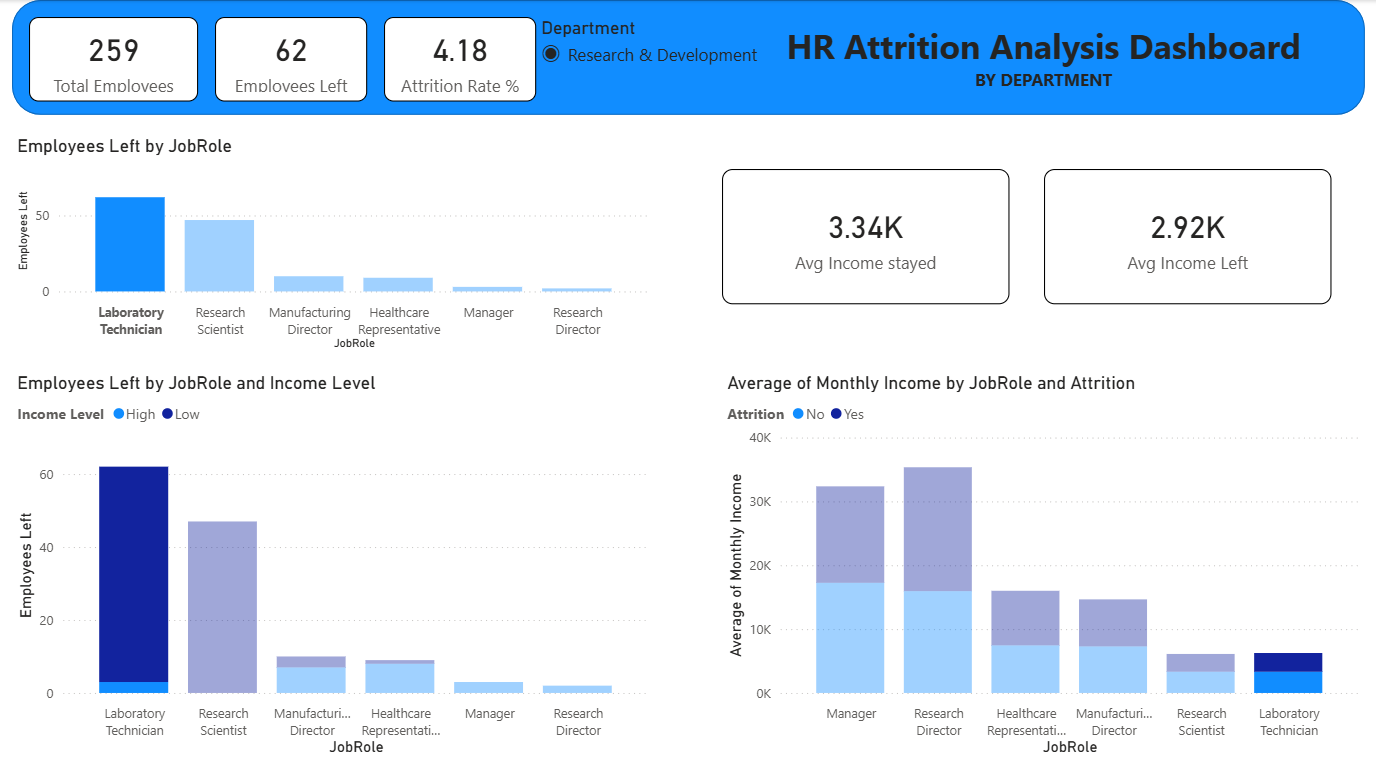

What the dashboard file says about the page in this screenshot:
{"tool":"powerbi","page":{"name":"Detailed","canvas":[1280,720],"ordinal":1},"visuals":[{"type":"group","id":"g1","title":"TITLE KPI","box":[0,0,1280,224],"z":0},{"type":"shape","box":[0,0,1280,108.6],"z":0,"group":"g1"},{"type":"card","fields":{"Values":["WA_Fn_UseC__HR_Employee_Attrition__2.Employees Left"]},"box":[192,16,144,80],"z":1000,"group":"g1"},{"type":"columnChart","fields":{"Y":["WA_Fn_UseC__HR_Employee_Attrition__2.Employees Left"],"Category":["WA_Fn_UseC__HR_Employee_Attrition__2.JobRole"]},"box":[0,128,608,208],"z":1000},{"type":"listSlicer","fields":{"Values":["WA_Fn_UseC__HR_Employee_Attrition__2.Department"]},"box":[496,16,224,208],"z":1500,"group":"g1"},{"type":"card","fields":{"Values":["WA_Fn_UseC__HR_Employee_Attrition__2.Total Employees"]},"box":[16,16,160,80],"z":2000,"group":"g1"},{"type":"card","fields":{"Values":["WA_Fn_UseC__HR_Employee_Attrition__2.Attrition Rate %"]},"box":[352,16,144,80],"z":3000,"group":"g1"},{"type":"columnChart","fields":{"Y":["WA_Fn_UseC__HR_Employee_Attrition__2.Employees Left"],"Category":["WA_Fn_UseC__HR_Employee_Attrition__2.JobRole"],"Series":["WA_Fn_UseC__HR_Employee_Attrition__2.Income Level"]},"box":[0,352,608,368],"z":3000},{"type":"card","fields":{"Values":["WA_Fn_UseC__HR_Employee_Attrition__2.Avg Income Left"]},"box":[976,160,272,128],"z":3001},{"type":"card","fields":{"Values":["WA_Fn_UseC__HR_Employee_Attrition__2.Avg Income stayed"]},"box":[672,160,272,128],"z":3002},{"type":"columnChart","fields":{"Category":["WA_Fn_UseC__HR_Employee_Attrition__2.JobRole"],"Y":["Avg(WA_Fn_UseC__HR_Employee_Attrition__2.Monthly Income)"],"Series":["WA_Fn_UseC__HR_Employee_Attrition__2.Attrition"]},"box":[672,352,608,368],"z":3003},{"type":"textbox","box":[720,16,512,80],"z":4000,"group":"g1"}]}

Visuals, with their boxes in screenshot pixels (x1, y1, x2, y2), scaled from the page's 1280x720 canvas onto the 1376x760 screenshot:
"TITLE KPI" group: (0,0,1375,236)
shape: (0,0,1375,115)
card - WA_Fn_UseC__HR_Employee_Attrition__2.Employees Left: (206,17,361,101)
columnChart - WA_Fn_UseC__HR_Employee_Attrition__2.Employees Left x WA_Fn_UseC__HR_Employee_Attrition__2.JobRole: (0,135,654,355)
listSlicer - WA_Fn_UseC__HR_Employee_Attrition__2.Department: (533,17,774,236)
card - WA_Fn_UseC__HR_Employee_Attrition__2.Total Employees: (17,17,189,101)
card - WA_Fn_UseC__HR_Employee_Attrition__2.Attrition Rate %: (378,17,533,101)
columnChart - WA_Fn_UseC__HR_Employee_Attrition__2.Employees Left x WA_Fn_UseC__HR_Employee_Attrition__2.JobRole: (0,372,654,759)
card - WA_Fn_UseC__HR_Employee_Attrition__2.Avg Income Left: (1049,169,1342,304)
card - WA_Fn_UseC__HR_Employee_Attrition__2.Avg Income stayed: (722,169,1015,304)
columnChart - WA_Fn_UseC__HR_Employee_Attrition__2.JobRole x Avg(WA_Fn_UseC__HR_Employee_Attrition__2.Monthly Income): (722,372,1375,759)
textbox: (774,17,1324,101)
